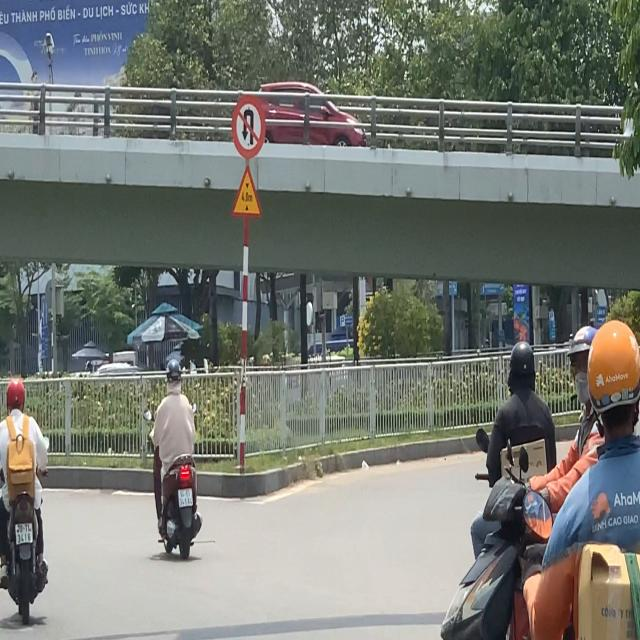Cam quay dau xe: (232, 95, 266, 159)
Nguy hiem: (230, 165, 262, 218)
